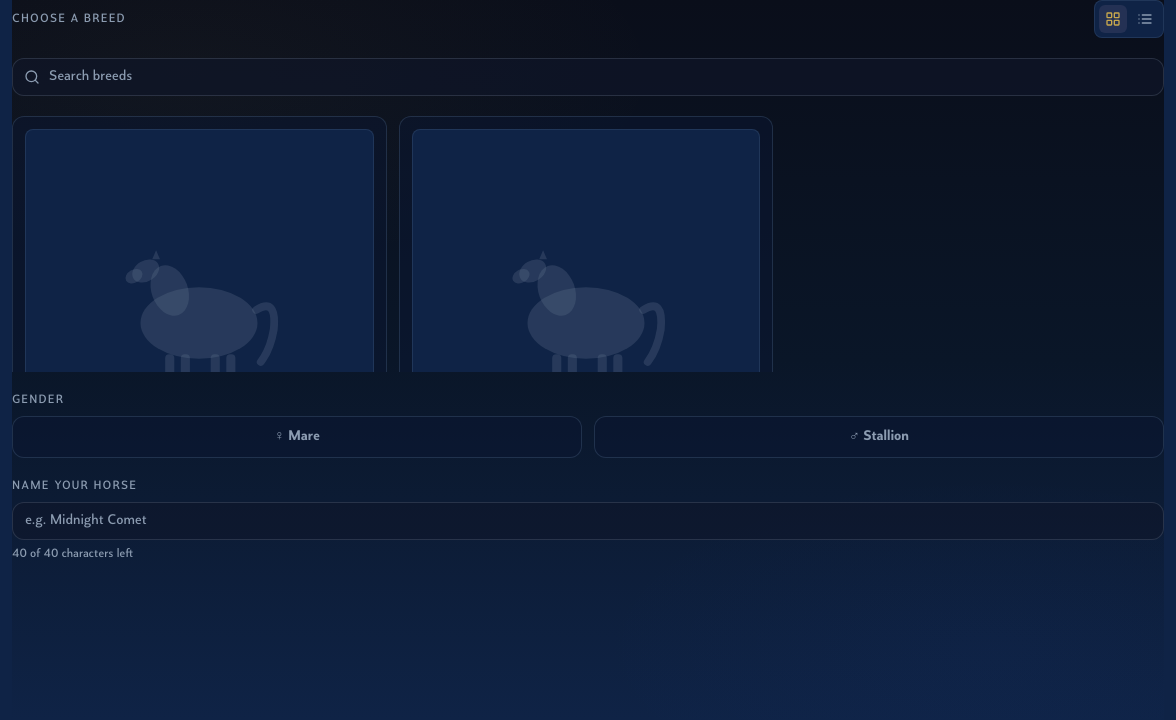
Test: BreedSelector › Search input (Equoria-4rz4b) › restores the full list when the clear-search button is clicked
Type "arab" into the field with test id "breed-search-input" at (588, 77), box [12,58,1164,96]
Wait 250 ms
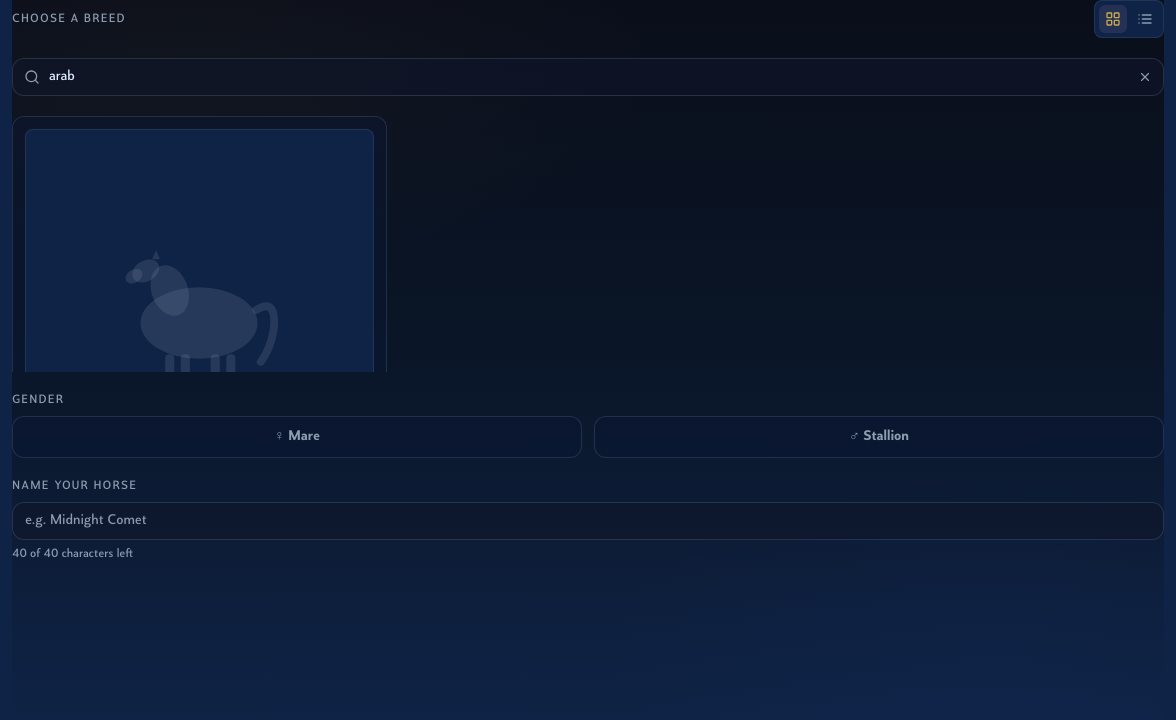
Expected: the picture "Thoroughbred" is not shown
Inline clear control (X) appears as long as the query is non-empty.
Click the button with test id "breed-search-clear" at (1145, 77), box [1134,66,1156,88]
Wait 250 ms
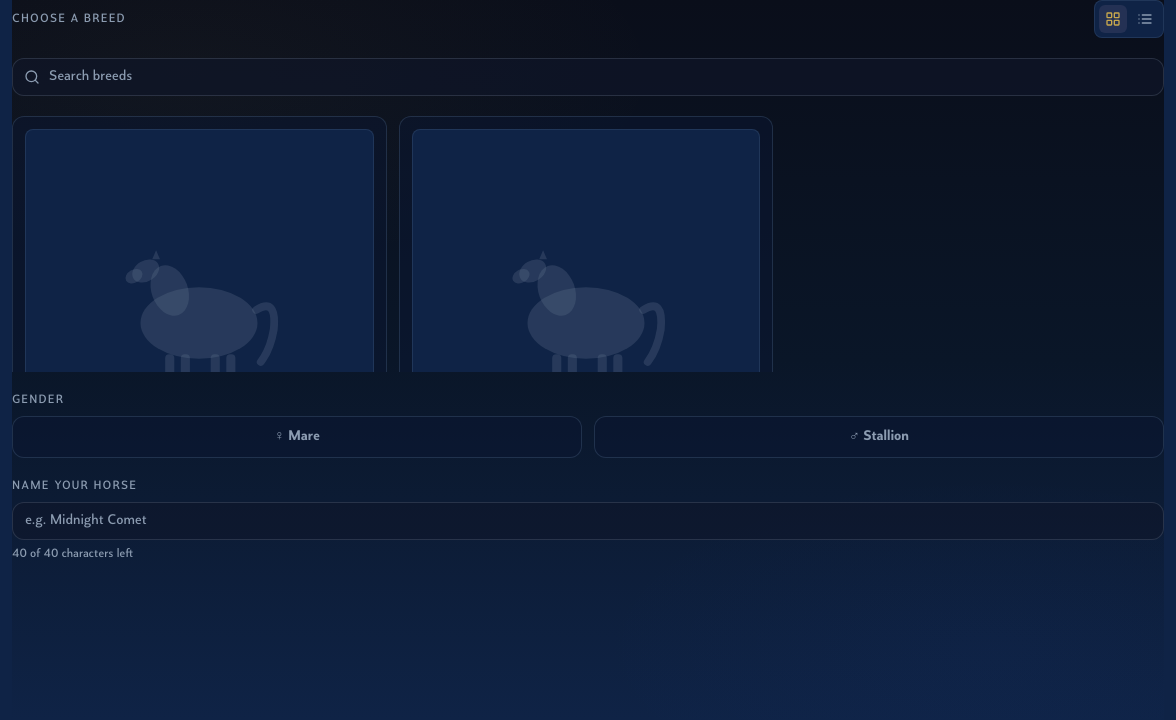
Expected: the field with test id "breed-search-input" is empty, [12,58,1164,96]
